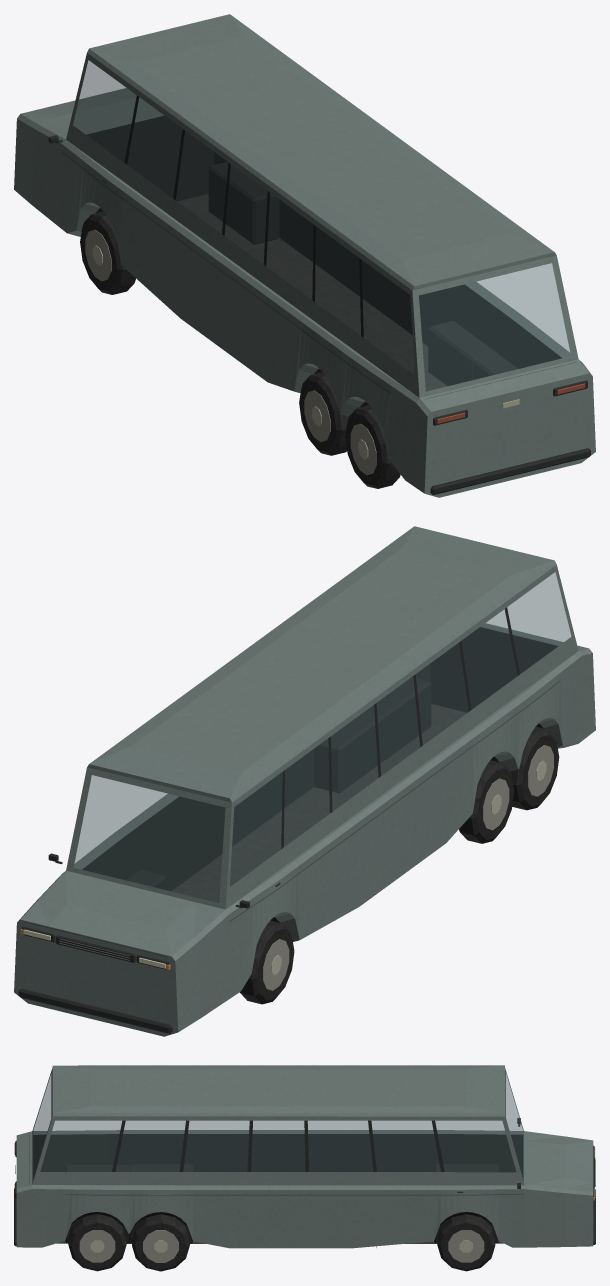
File: vehicle_city_bus.glb
3 renders of one model, top to bottom at view 1: azimuth 30°, elevation 25°; view 2: azimuth 150°, elevation 25°; view 3: azimuth 270°, elevation 25°, orthographic. The views are drawn at different scales.
Visible parts, largest first — view 1: closed_body, roof_body, glazing; view 2: closed_body, roof_body, glazing; view 3: closed_body, glazing, roof_body.
Part boxes in pixels (box(x1,y1,x2,y2)): closed_body: box(14, 53, 595, 497); roof_body: box(87, 14, 556, 290); glazing: box(73, 60, 570, 391); closed_body: box(14, 565, 595, 1036); roof_body: box(87, 526, 556, 802); glazing: box(74, 572, 571, 902); closed_body: box(14, 1067, 595, 1271); glazing: box(33, 1074, 523, 1178); roof_body: box(52, 1065, 504, 1116).
Bounding box in the file's own units: 2.7 × 2.88 × 9.81.
2 materials, 2 textured.
